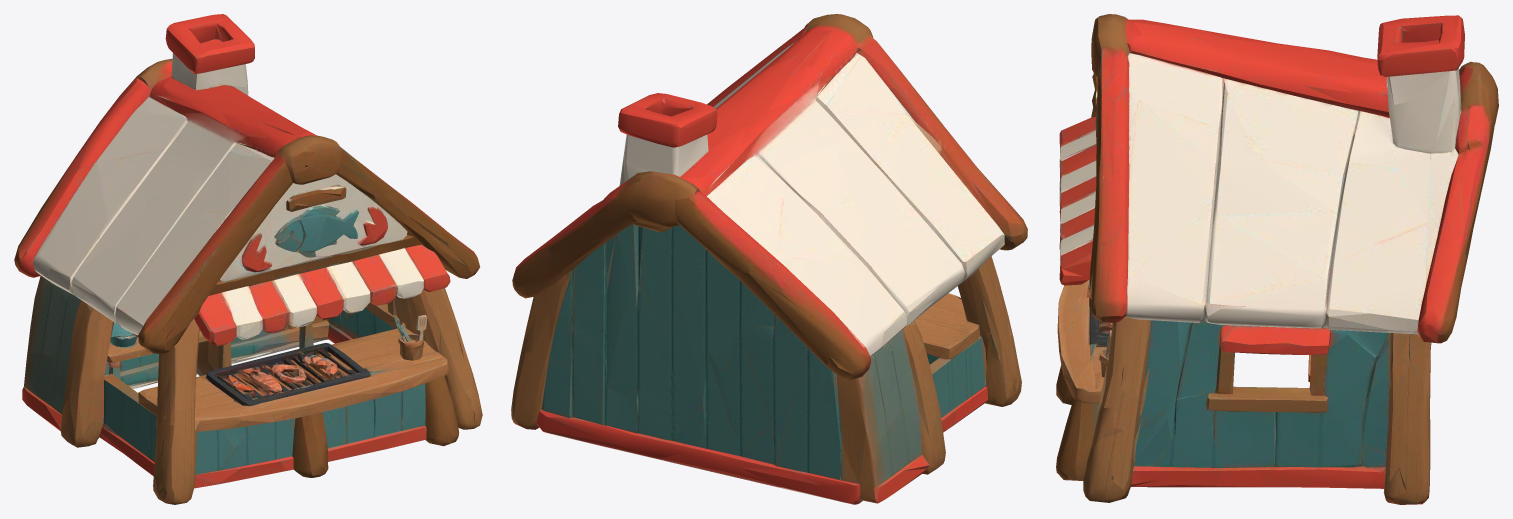
Rendered from grillHut.glb.
The picture shows the model from 3 angles, left to right: view 1: azimuth 30°, elevation 25°; view 2: azimuth 150°, elevation 25°; view 3: azimuth 270°, elevation 25°; orthographic projection. The views are drawn at different scales.
Parts seen in each view (by area): view 1: Mesh_0; view 2: Mesh_0; view 3: Mesh_0.
Part boxes in pixels (left/top/right/bottom): Mesh_0: left=14, top=14, right=482, bottom=504; Mesh_0: left=511, top=14, right=1027, bottom=504; Mesh_0: left=1056, top=14, right=1498, bottom=504.
Size of the model in its own units: 2.8 by 2.56 by 2.6.
Materials: 1 (1 with a texture image).
